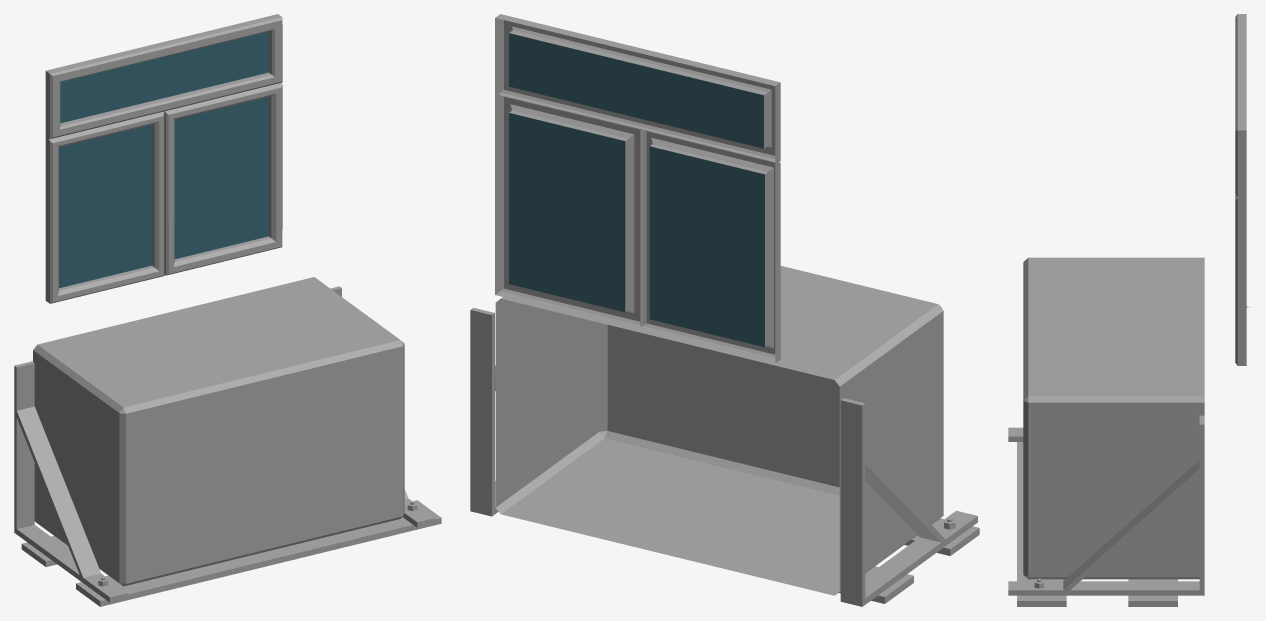
Rendered from airConditioner.fbx.
The picture shows the model from 3 angles, left to right: view 1: azimuth 30°, elevation 25°; view 2: azimuth 150°, elevation 25°; view 3: azimuth 270°, elevation 25°; orthographic projection. The views are drawn at different scales.
Parts seen in each view (by area): view 1: pCube1, sci_fi:polySurface12, sci_fi:polySurface11, sci_fi:polySurface10, sci_fi:polySurface9, pCube2, pCube5, pCube6; view 2: pCube1, sci_fi:polySurface12, sci_fi:polySurface10, sci_fi:polySurface11, sci_fi:polySurface9, pCube2, pCube6, pCube5; view 3: pCube1, pCube6, sci_fi:polySurface12, pCube5.
Part boxes in pixels (x1,y1,x2,y2): pCube1: (33,277,404,586); sci_fi:polySurface12: (45,14,282,303); sci_fi:polySurface11: (174,97,268,259); sci_fi:polySurface10: (59,124,151,288); sci_fi:polySurface9: (60,31,268,123); pCube2: (14,361,127,602); pCube5: (21,500,441,606); pCube6: (330,286,435,527); pCube1: (495,266,943,595); sci_fi:polySurface12: (495,14,780,363); sci_fi:polySurface10: (649,146,764,347); sci_fi:polySurface11: (509,113,625,312); sci_fi:polySurface9: (509,33,763,148); pCube2: (840,398,977,606); pCube6: (470,307,498,516); pCube5: (495,481,979,603); pCube1: (1023,257,1204,579); pCube6: (1008,415,1204,595); sci_fi:polySurface12: (1235,14,1250,365); pCube5: (1017,442,1177,606).
Bounding box in the file's own units: 151 × 186 × 91.06.
